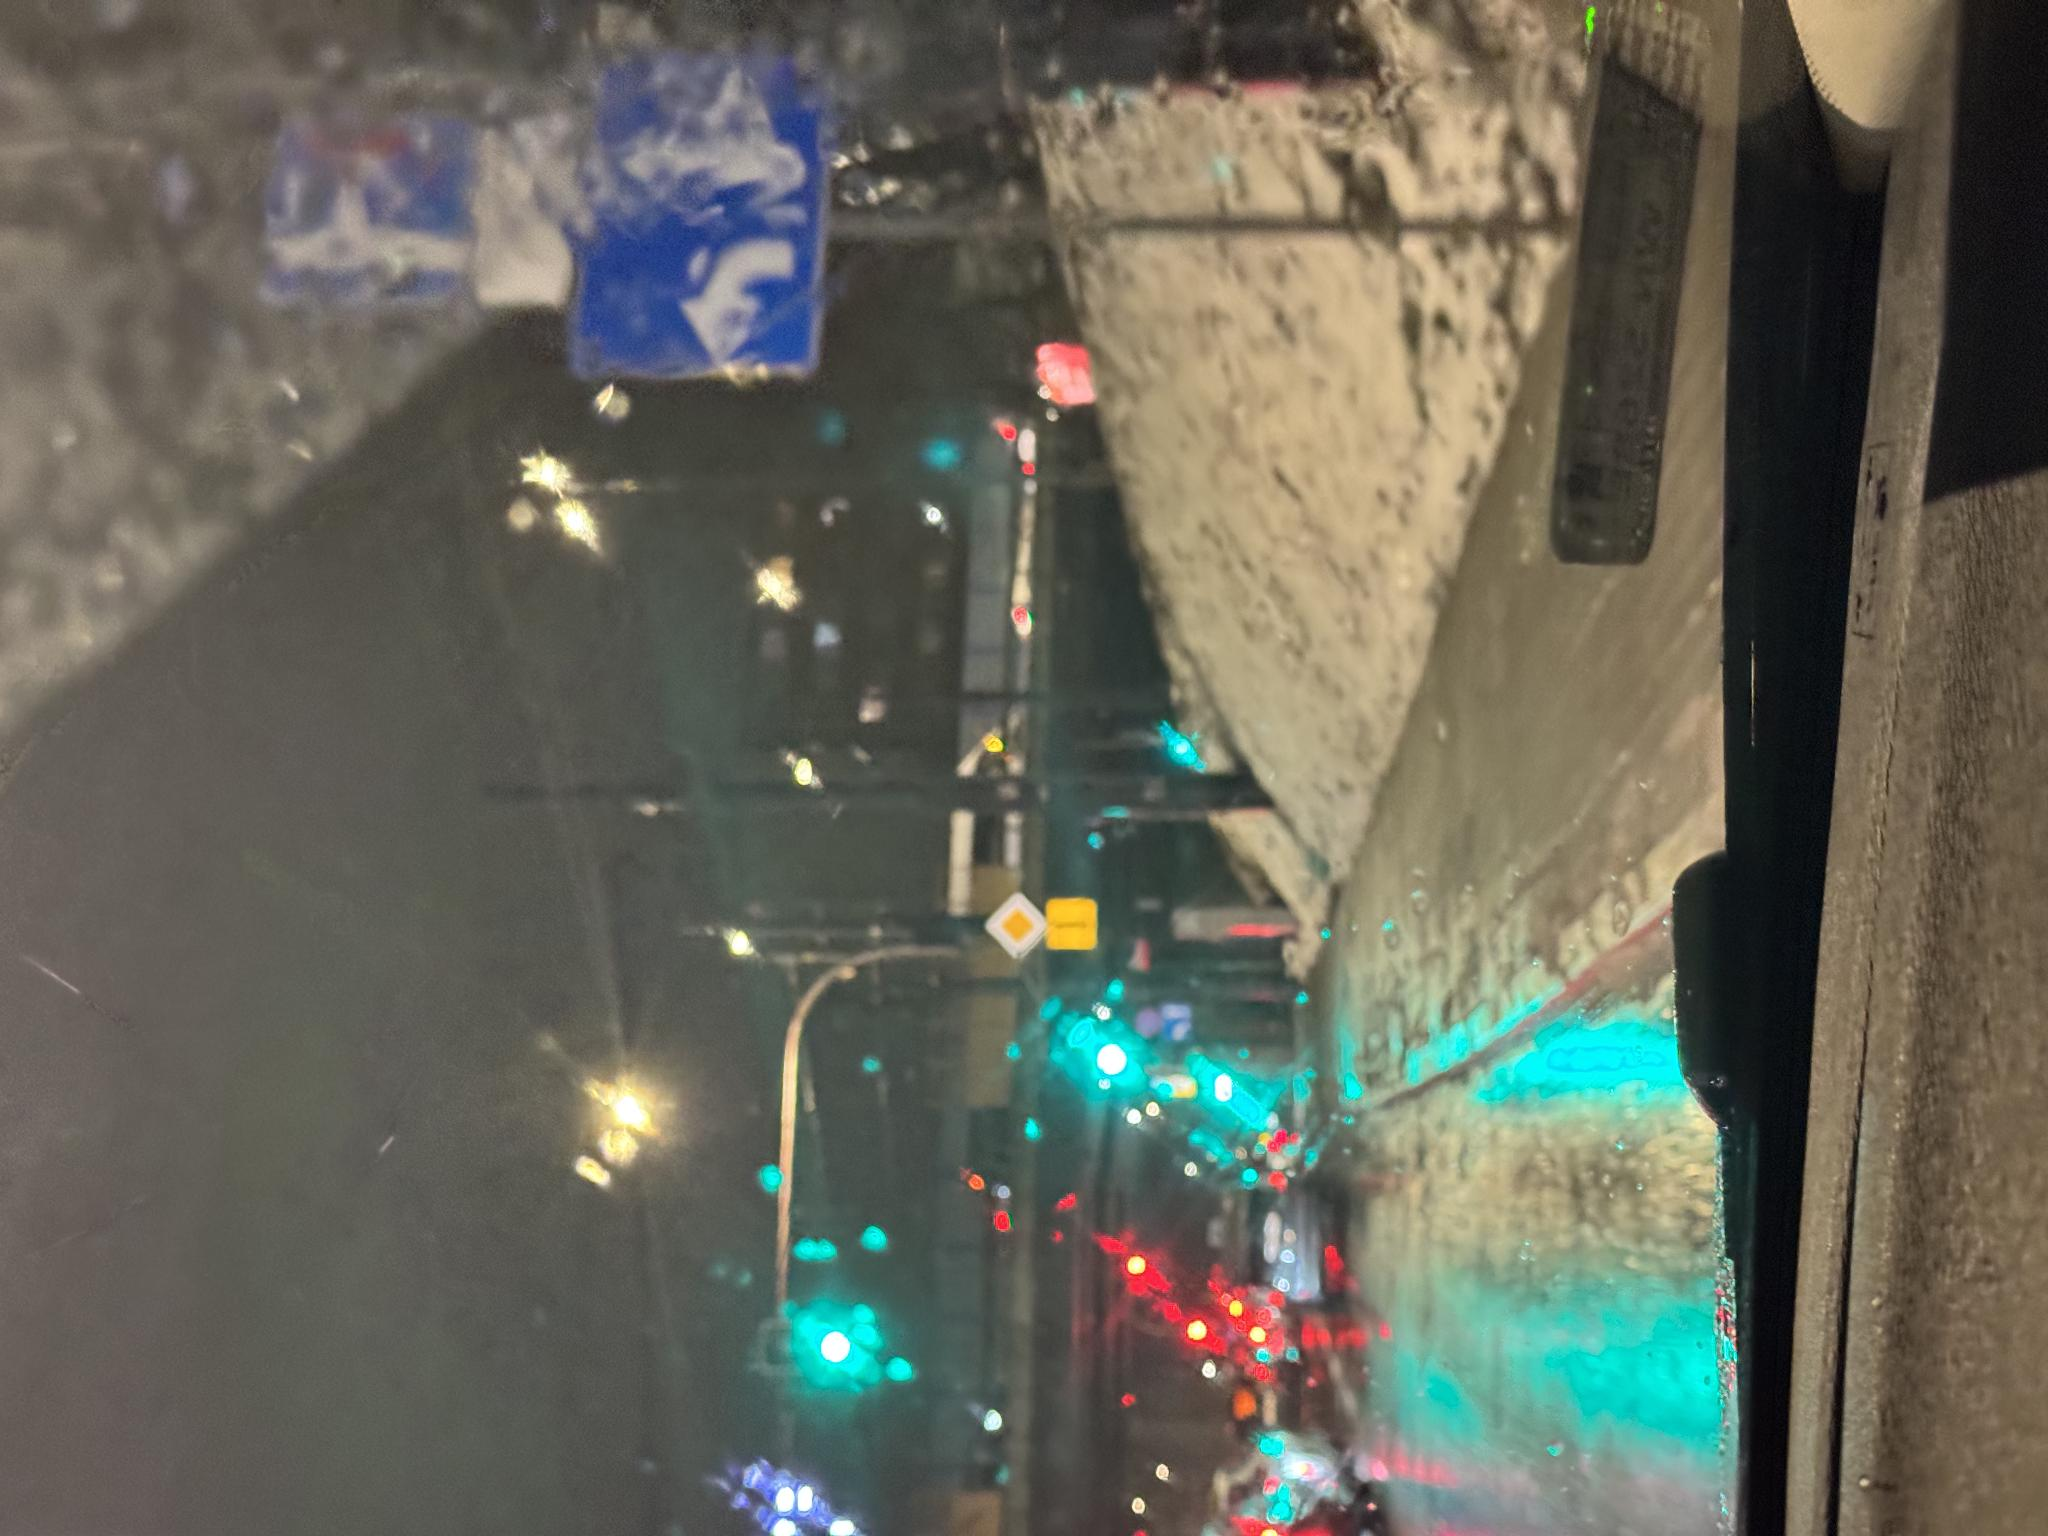information: (579, 983, 645, 1047)
other: (584, 1046, 640, 1100)
